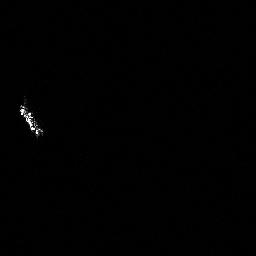ship: (20, 105, 43, 135)
